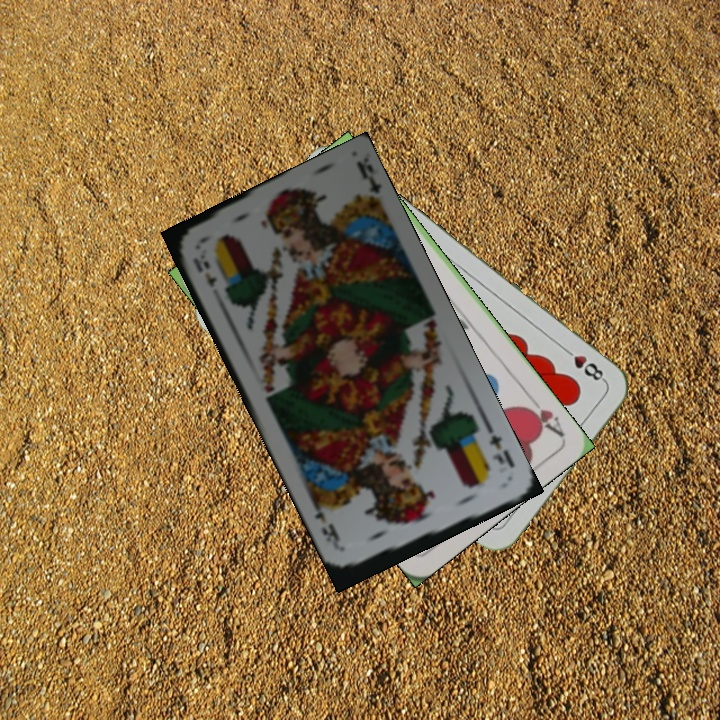EK: (483, 422, 517, 471), (189, 253, 219, 290)
H8: (558, 343, 608, 385)
HA: (520, 390, 567, 440)
